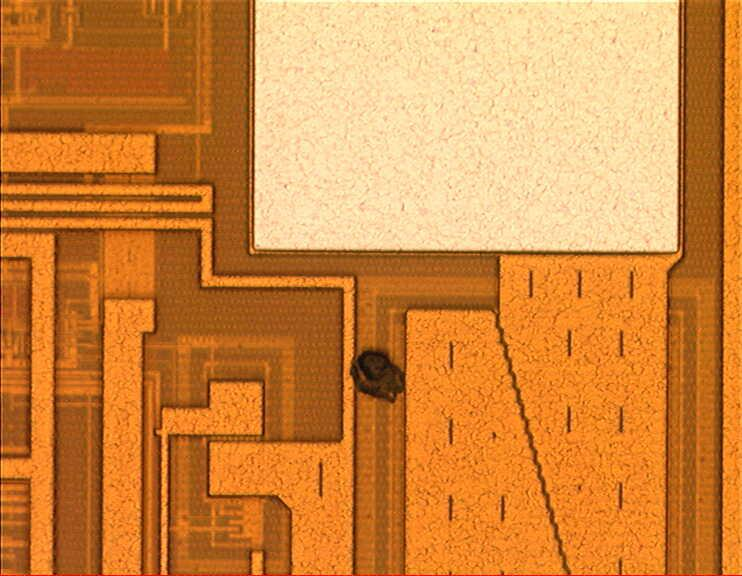PIQ PARTICLE: (346, 343, 414, 411)
